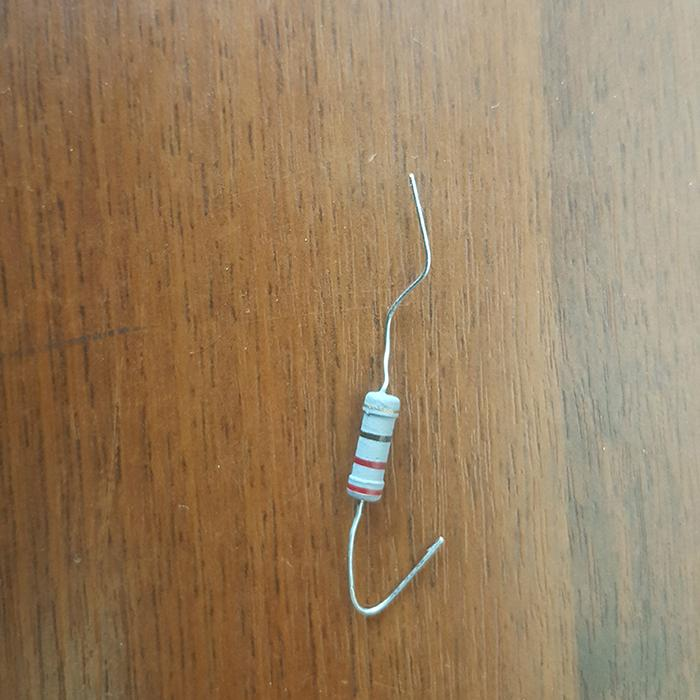resistor: (346, 390, 401, 502)
